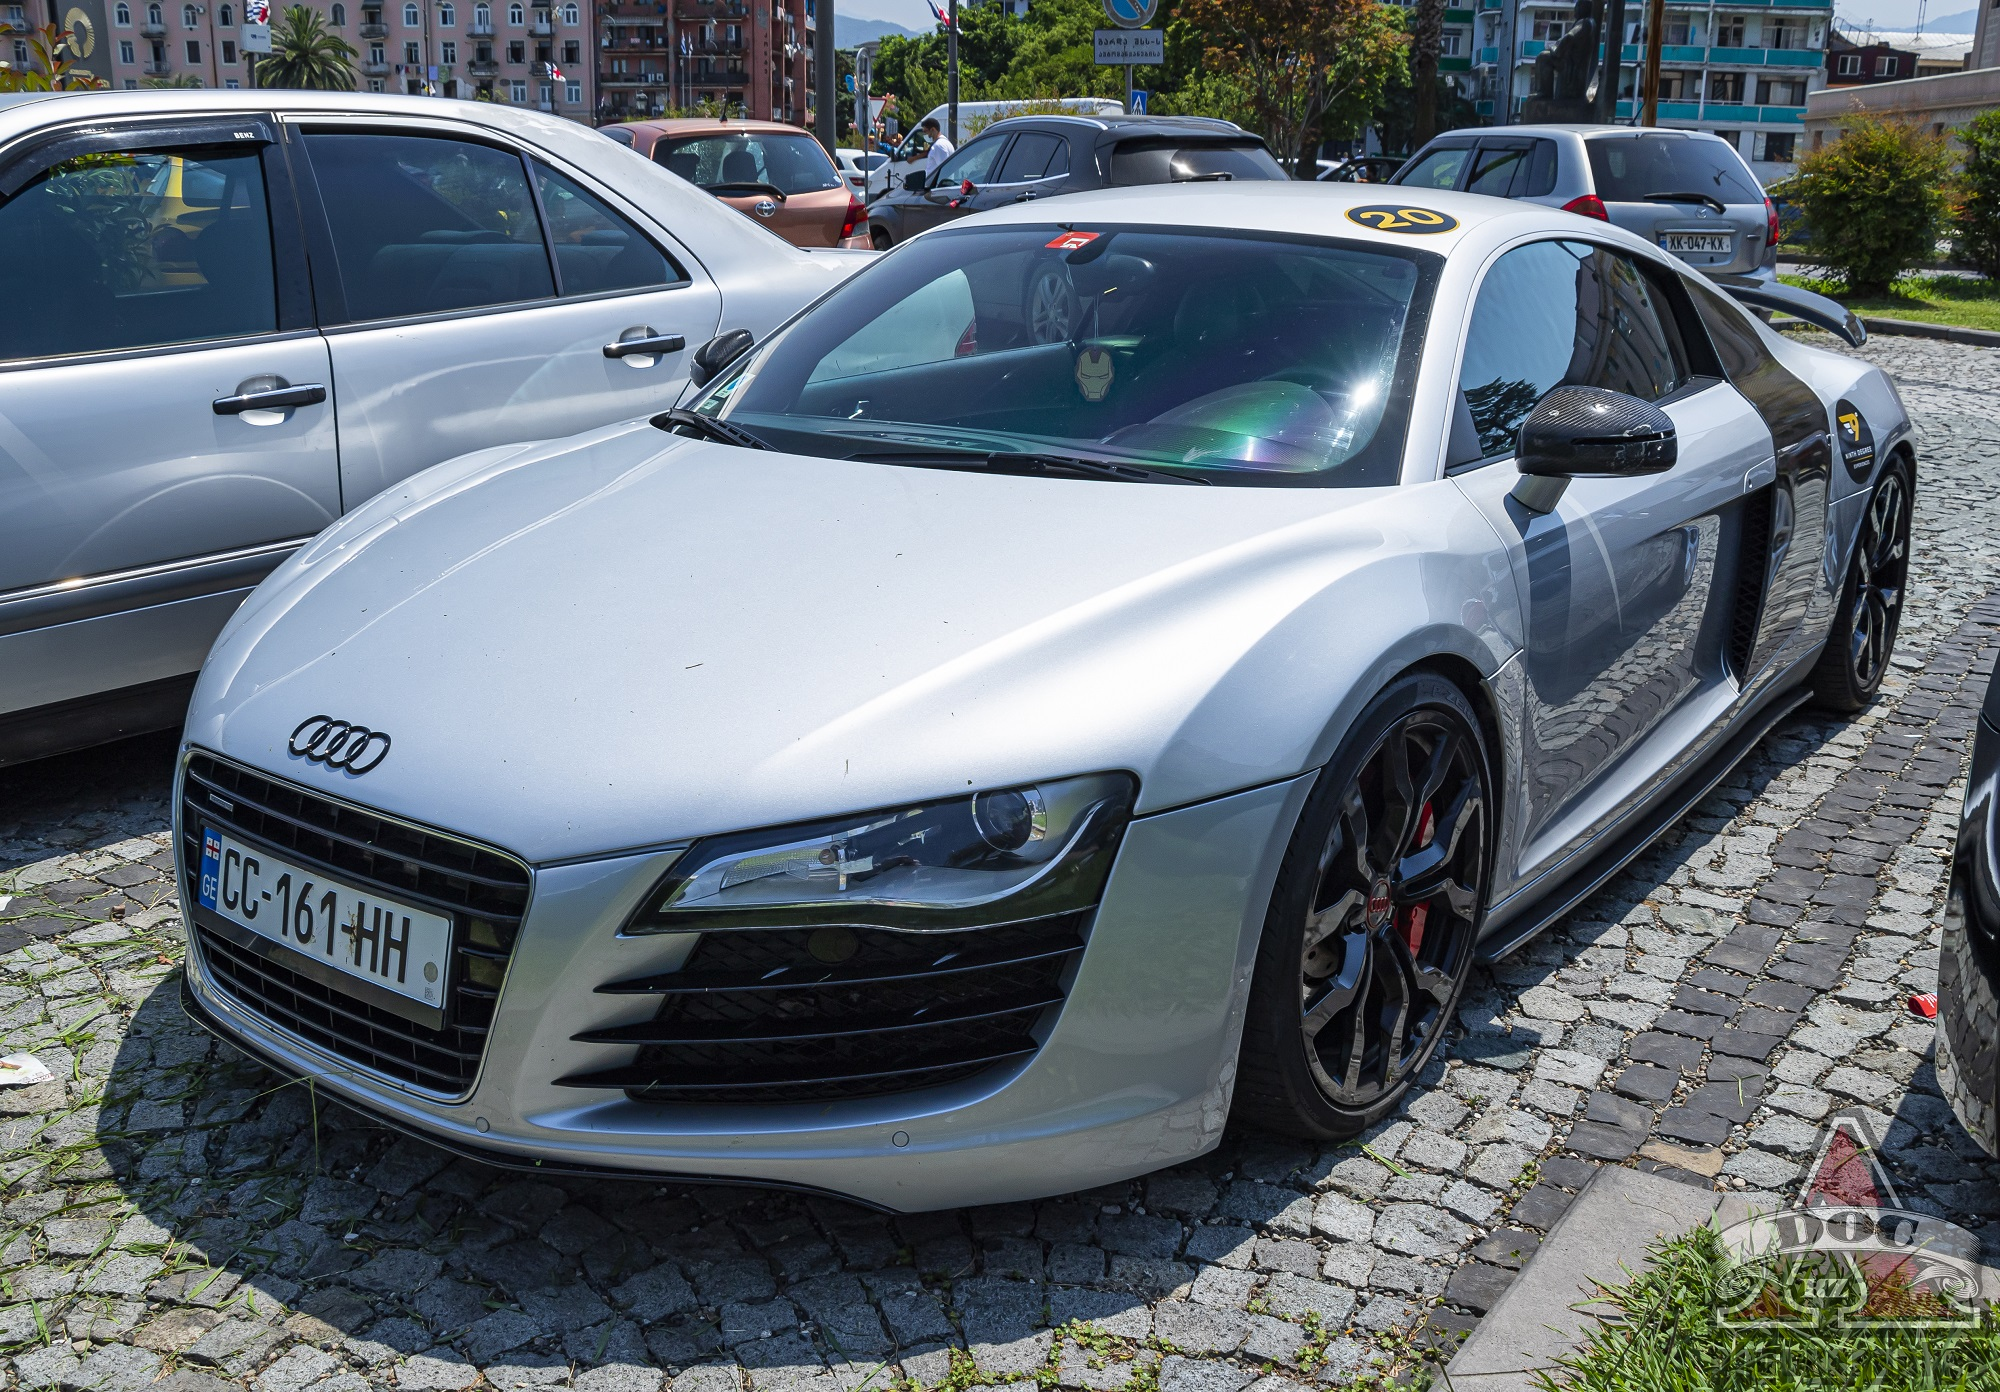plaka: (188, 817, 450, 1032)
